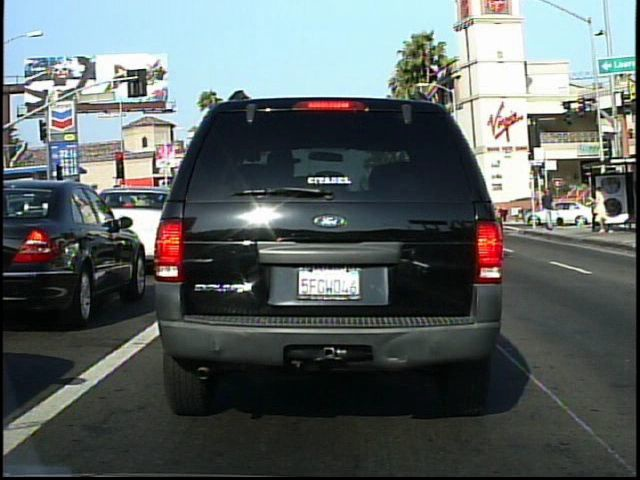person: (590, 182, 611, 234), (537, 184, 558, 234)
